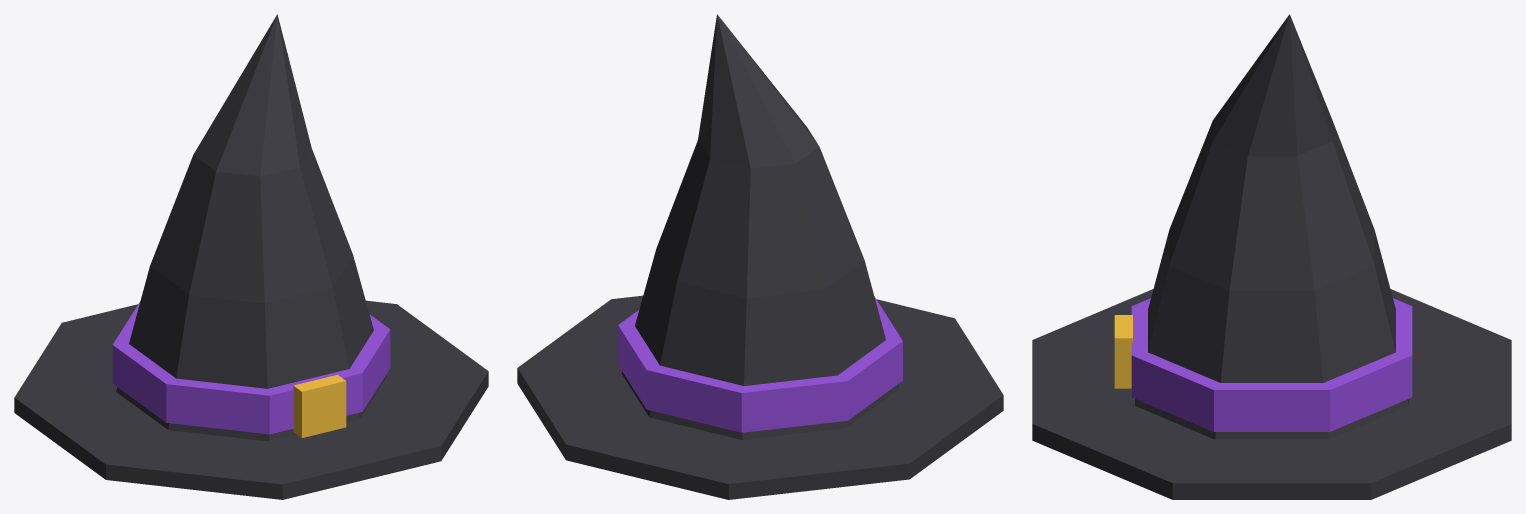
File: WitchHat.fbx
3 views of the same model, side by side, from view 1: azimuth 30°, elevation 25°; view 2: azimuth 150°, elevation 25°; view 3: azimuth 270°, elevation 25° (orthographic). The views are drawn at different scales.
Visible parts, largest first — view 1: WitchHat; view 2: WitchHat; view 3: WitchHat.
Part boxes in pixels (bbox=[...]): WitchHat: bbox=[14, 14, 488, 499]; WitchHat: bbox=[517, 14, 1003, 499]; WitchHat: bbox=[1032, 14, 1511, 499].
Bounding box in the file's own units: 2.59 × 2.4 × 2.59.
1 material, 1 textured.
